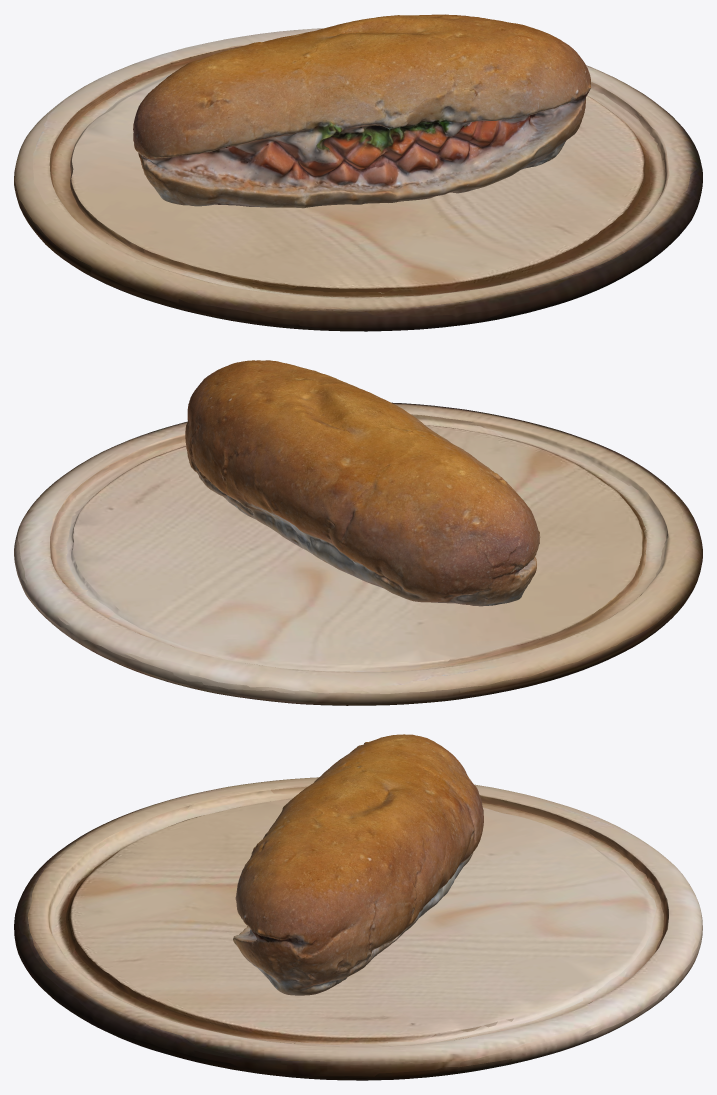
Rendered from hot.dog.especial.1M.f.glb.
3 views of the same model, one above another, from view 1: azimuth 30°, elevation 25°; view 2: azimuth 150°, elevation 25°; view 3: azimuth 270°, elevation 25° (orthographic).
Parts seen in each view (by area): view 1: Submesh_0.001, 3DModel; view 2: Submesh_0.001, 3DModel; view 3: Submesh_0.001, 3DModel.
Part boxes in pixels (x1=…): Submesh_0.001: x1=14, y1=28, x2=702, y2=331; 3DModel: x1=133, y1=14, x2=591, y2=208; Submesh_0.001: x1=14, y1=402, x2=702, y2=705; 3DModel: x1=185, y1=360, x2=540, y2=606; Submesh_0.001: x1=14, y1=777, x2=702, y2=1080; 3DModel: x1=233, y1=734, x2=483, y2=995.
Bounding box in the file's own units: 0.3272 × 0.0823 × 0.3271.
Materials: 2 (2 with a texture image).
